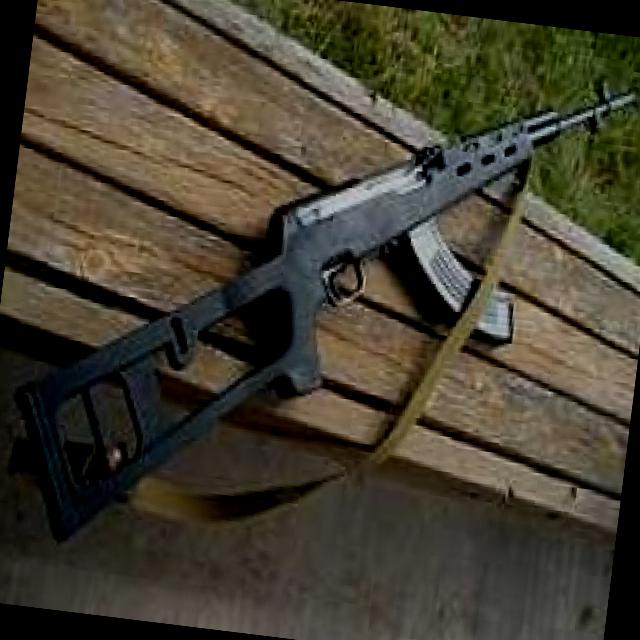long weapon: (0, 0, 639, 592)
